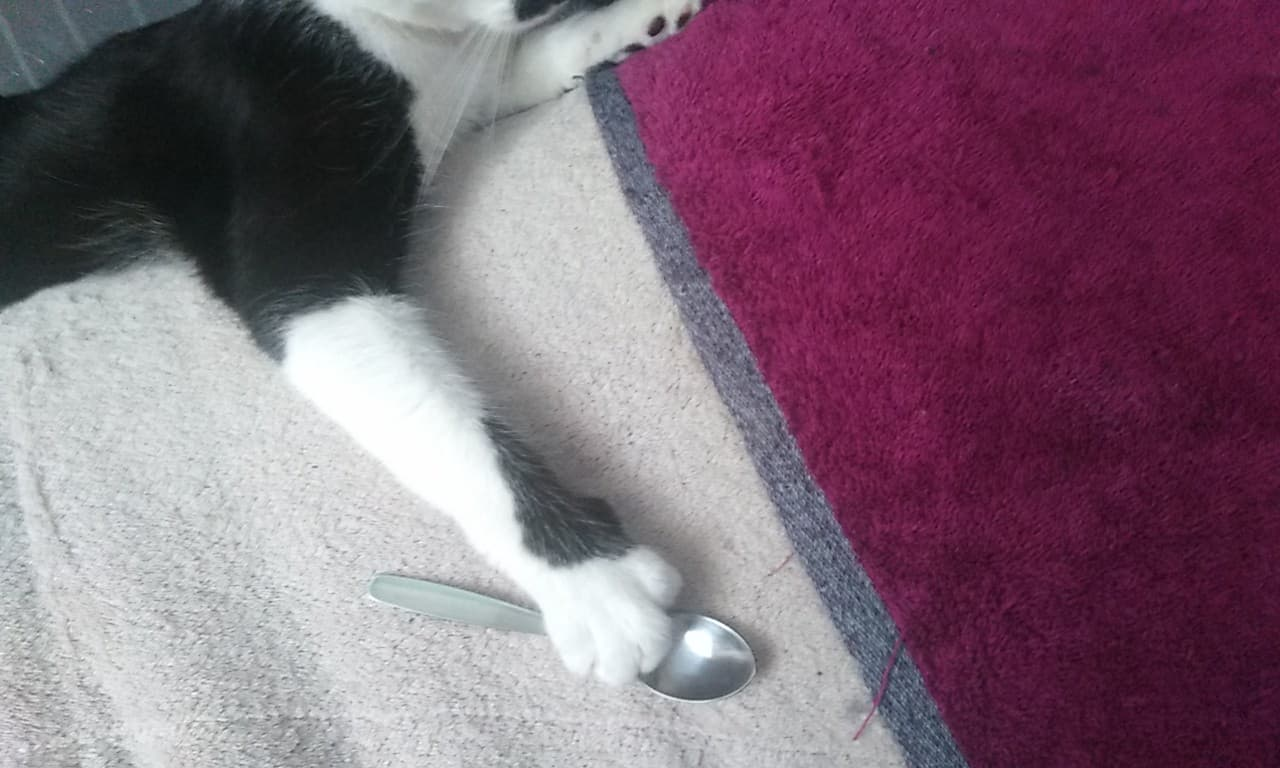Lyzka: (615, 614, 764, 703)
